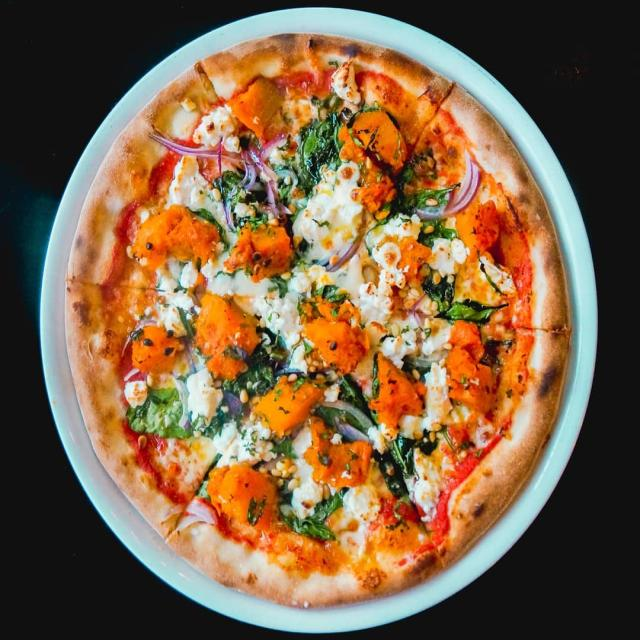basil: (118, 382, 191, 440), (302, 93, 347, 183), (371, 186, 461, 226), (215, 362, 279, 416), (280, 492, 344, 542), (305, 397, 368, 441), (374, 448, 412, 512), (272, 154, 316, 208), (210, 166, 243, 232), (250, 320, 288, 373), (439, 298, 512, 325), (180, 204, 227, 241), (382, 434, 419, 478), (335, 371, 370, 413), (368, 353, 386, 403), (308, 282, 348, 304), (271, 272, 291, 299)
pizza: (63, 29, 573, 610)
